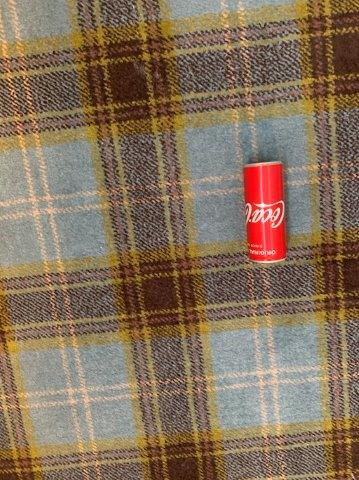kaleng: (244, 161, 286, 262)
